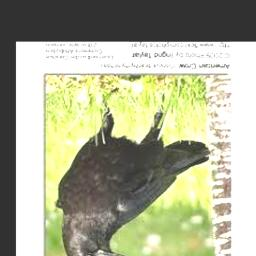Crow: (54, 75, 212, 256)
